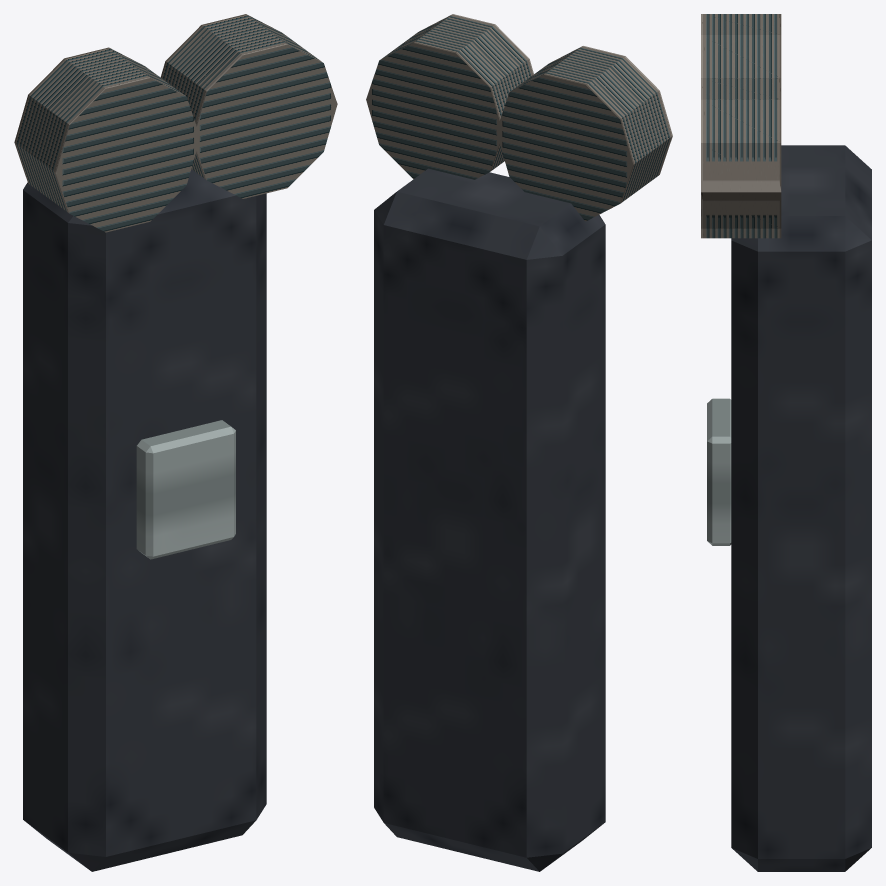
The model's file is MD_108_ElectricRazor.fbx.
The picture shows the model from 3 angles, left to right: view 1: azimuth 30°, elevation 25°; view 2: azimuth 150°, elevation 25°; view 3: azimuth 270°, elevation 25°; orthographic projection. The views are drawn at different scales.
Parts seen in each view (by area): view 1: MD_108_ElectricRazor_razor_handle, MD_108_ElectricRazor_foil_head, MD_108_ElectricRazor_foil_head.001, MD_108_ElectricRazor_razor_button; view 2: MD_108_ElectricRazor_razor_handle, MD_108_ElectricRazor_foil_head, MD_108_ElectricRazor_foil_head.001; view 3: MD_108_ElectricRazor_razor_handle, MD_108_ElectricRazor_foil_head.001, MD_108_ElectricRazor_foil_head, MD_108_ElectricRazor_razor_button.
Boxes of the visible parts, x1=… form: MD_108_ElectricRazor_razor_handle: x1=23, y1=169, x2=266, y2=871; MD_108_ElectricRazor_foil_head: x1=14, y1=47, x2=200, y2=232; MD_108_ElectricRazor_foil_head.001: x1=160, y1=14, x2=337, y2=198; MD_108_ElectricRazor_razor_button: x1=136, y1=420, x2=235, y2=559; MD_108_ElectricRazor_razor_handle: x1=374, y1=168, x2=605, y2=871; MD_108_ElectricRazor_foil_head: x1=496, y1=46, x2=672, y2=221; MD_108_ElectricRazor_foil_head.001: x1=366, y1=14, x2=533, y2=179; MD_108_ElectricRazor_razor_handle: x1=731, y1=145, x2=871, y2=871; MD_108_ElectricRazor_foil_head.001: x1=701, y1=78, x2=781, y2=238; MD_108_ElectricRazor_foil_head: x1=701, y1=14, x2=781, y2=78; MD_108_ElectricRazor_razor_button: x1=707, y1=398, x2=731, y2=545.
Size of the model in its own units: 0.078 by 0.214 by 0.0425.
Materials: 3 (3 with a texture image).
